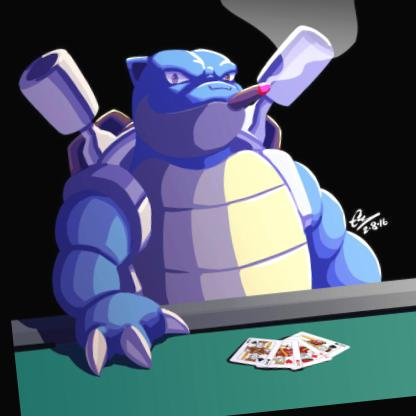Turtok: (0, 6, 415, 397)
